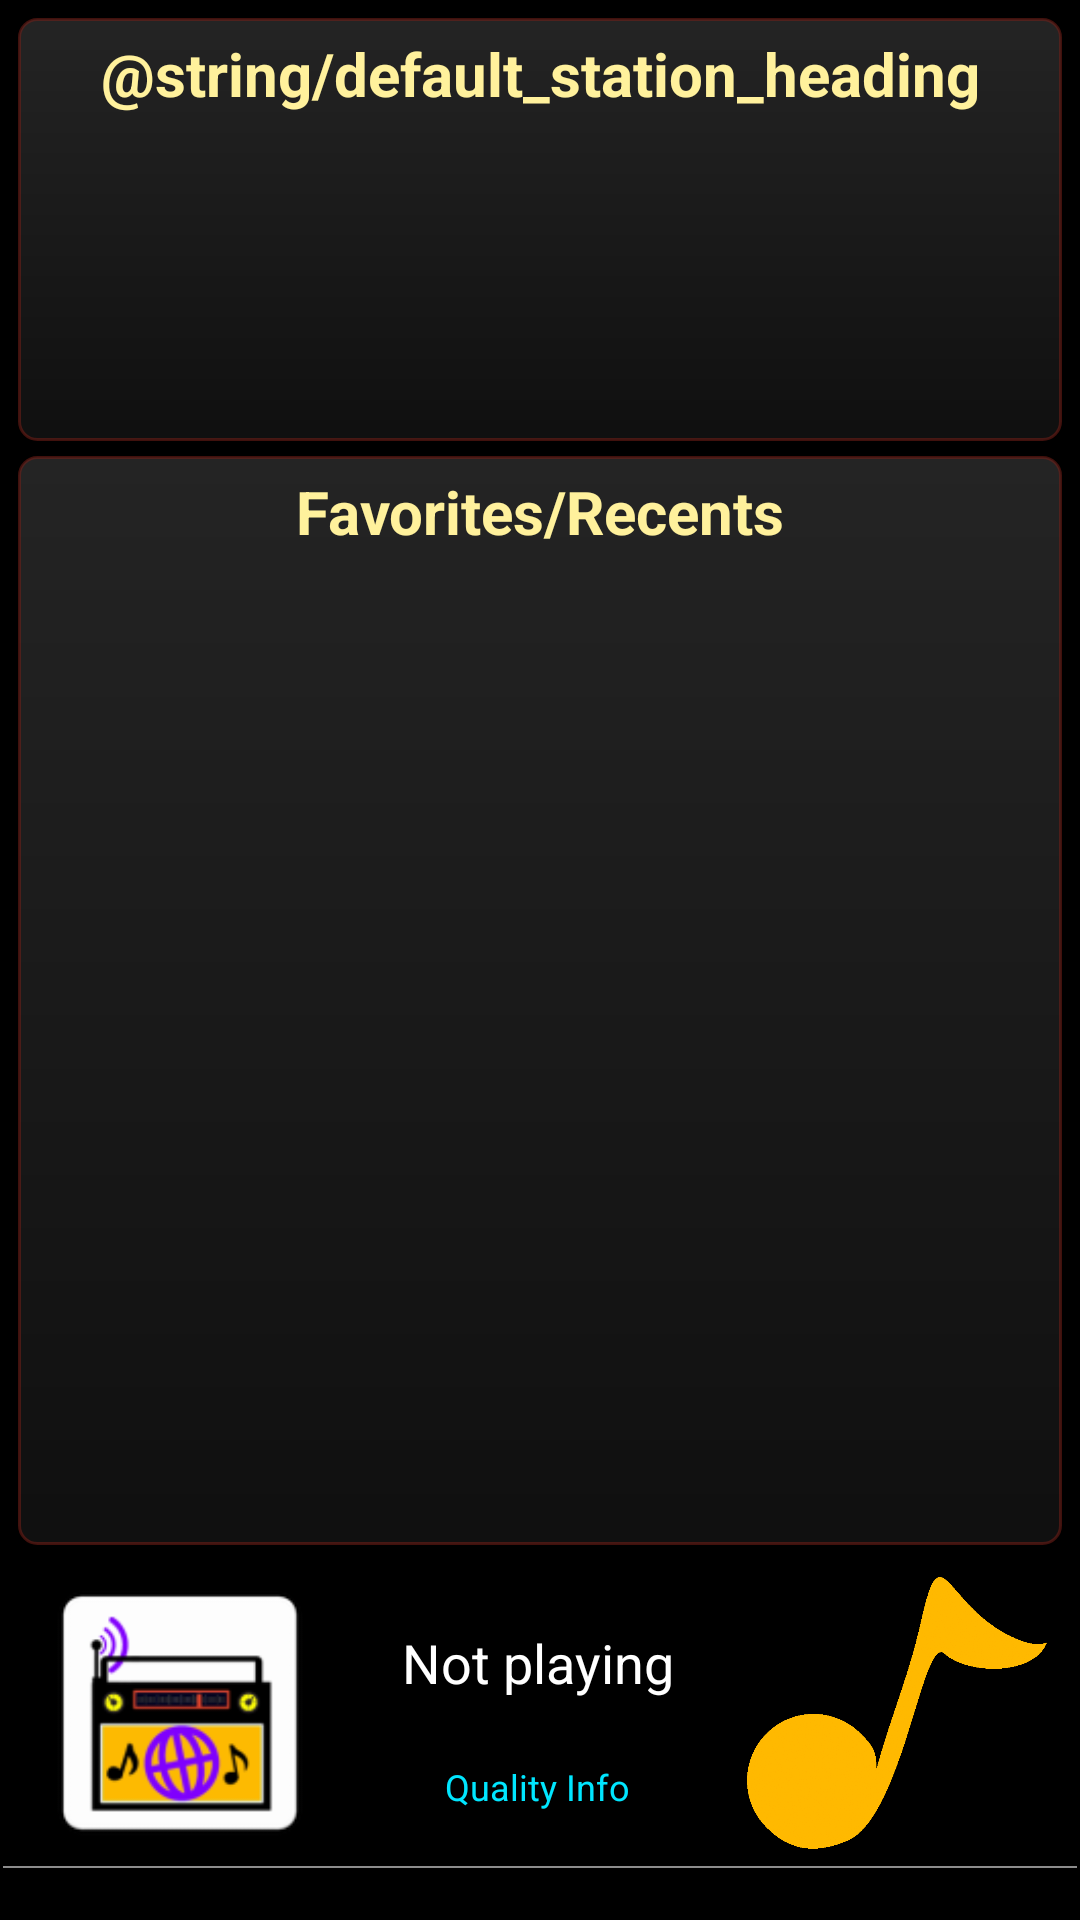

Screen size 1080x1920. Icon name, then its center in pixels as [x,y]:
Playback status GIF: [897,1713]
